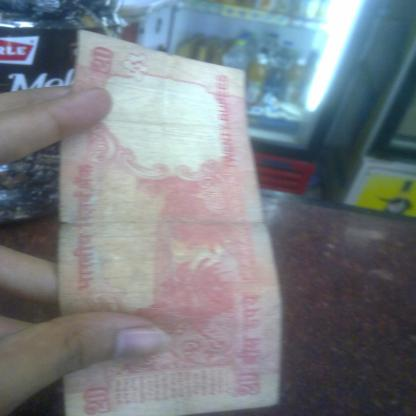Old20Back: (56, 29, 283, 415)
